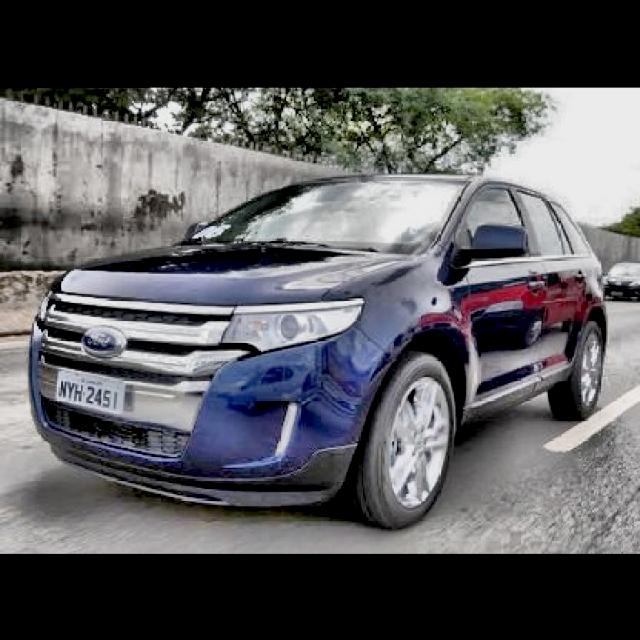blue: (36, 166, 640, 523)
